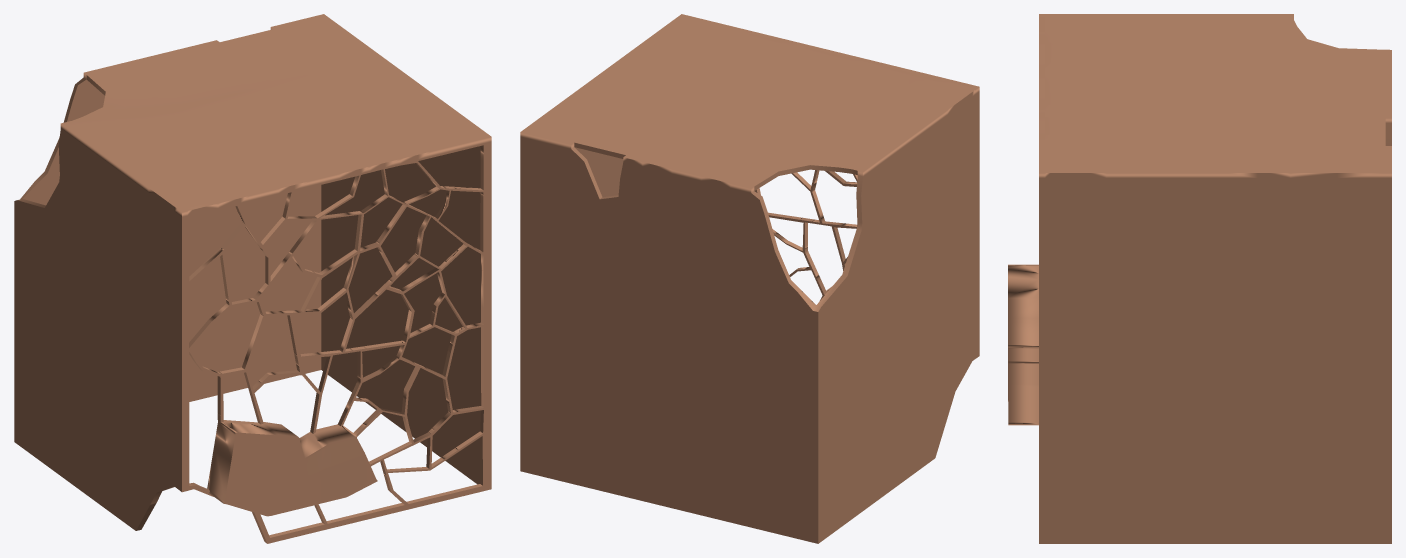
File: Nexus_A.fbx
3 renders of one model, left to right at view 1: azimuth 30°, elevation 25°; view 2: azimuth 150°, elevation 25°; view 3: azimuth 270°, elevation 25°, orthographic. The views are drawn at different scales.
Visible parts, largest first — view 1: Collection_Room45; view 2: Collection_Room45; view 3: Collection_Room45.
Part boxes in pixels (box(x1,y1,x2,y2)): Collection_Room45: box(14, 14, 491, 543); Collection_Room45: box(520, 14, 979, 543); Collection_Room45: box(1008, 14, 1391, 543).
Bounding box in the file's own units: 238 × 259 × 243.
